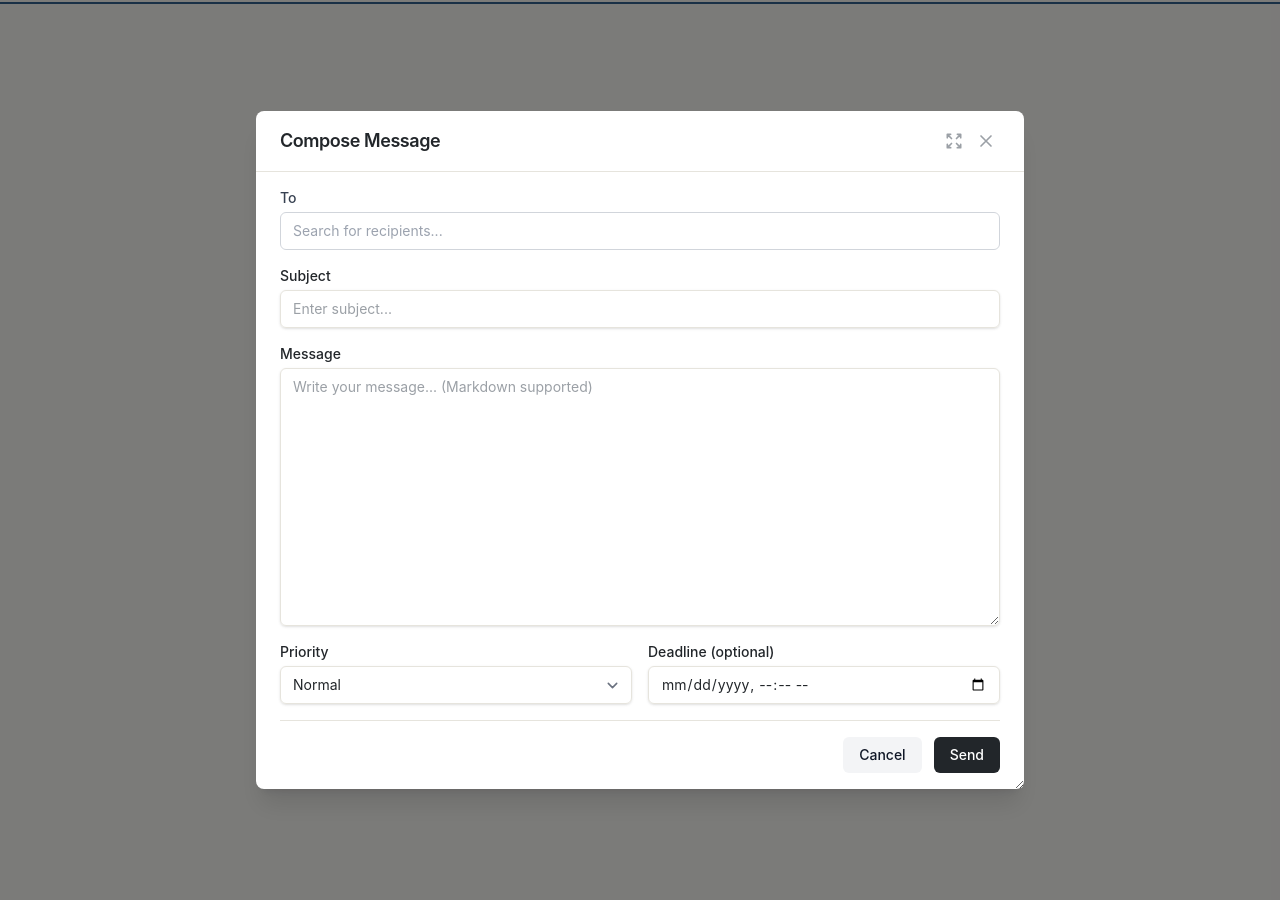
Scenario: ComposeModal › toggles fullscreen mode when expand button is clicked
Step 1. Click the button named "Fullscreen" → click(954, 141), box [940,127,968,155]
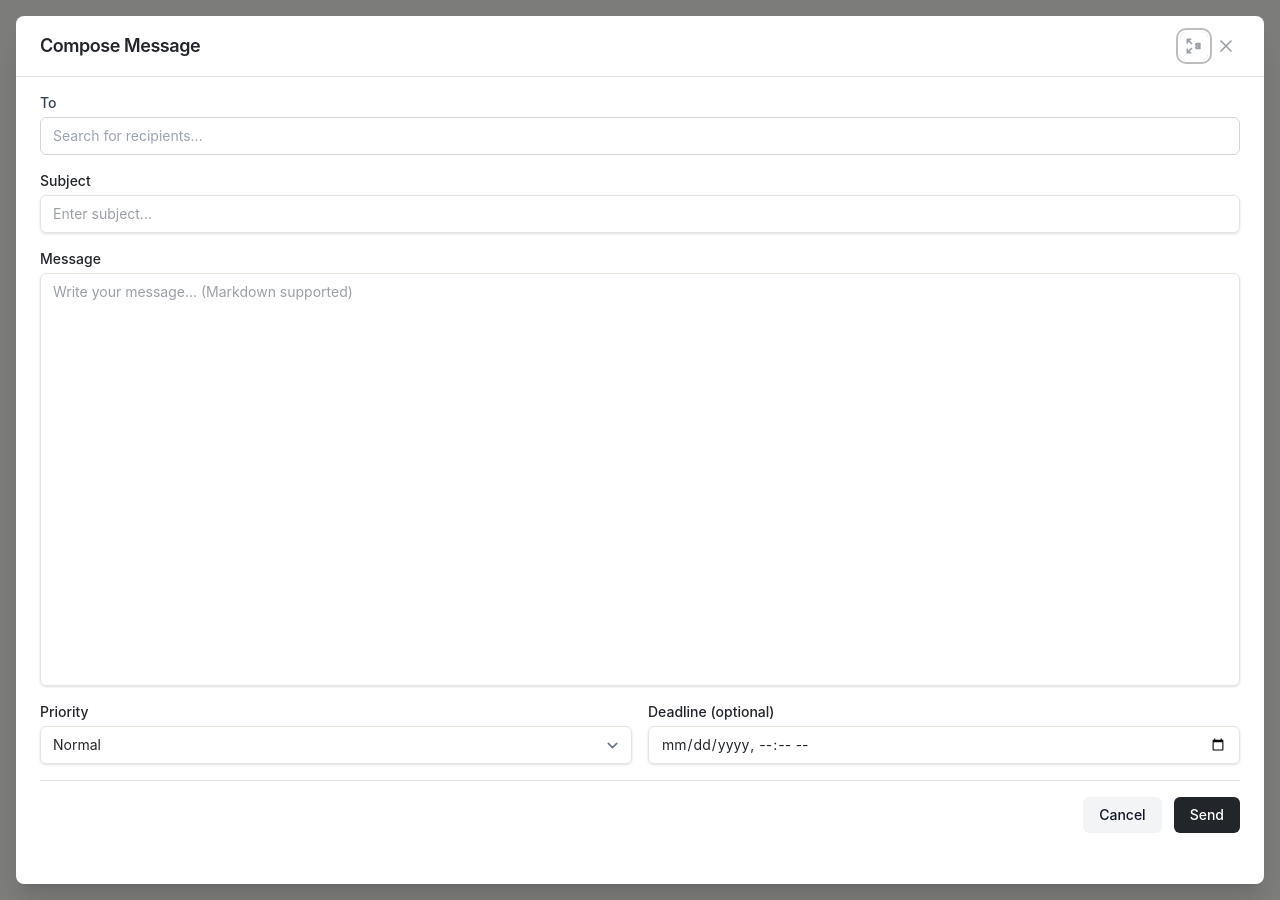
Expected: the button named "Exit fullscreen" is shown, [1180,32,1208,60]
